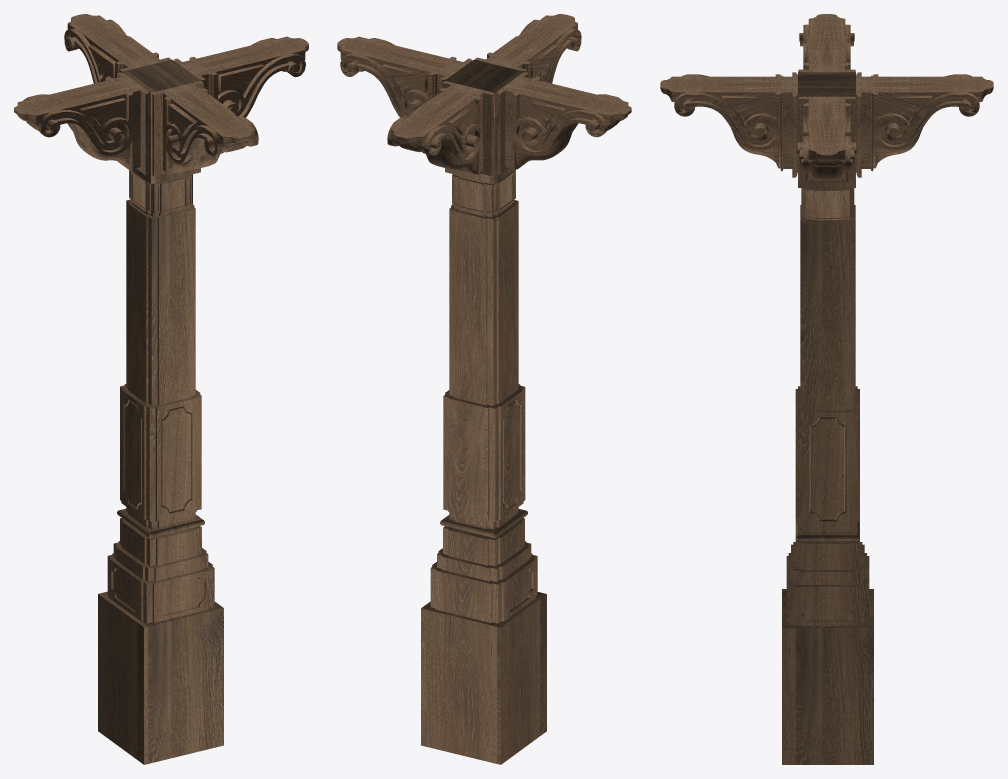
The model's file is Pillar.glb.
3 views of the same model, side by side, from view 1: azimuth 30°, elevation 25°; view 2: azimuth 150°, elevation 25°; view 3: azimuth 270°, elevation 25° (orthographic).
Parts seen in each view (by area): view 1: group_23 (×8), group_21, group_19, group_14, group_15, group_17, group_11, group_12, group_18, group_3; view 2: group_23 (×8), group_21, group_19, group_14, group_15, group_17, group_11, group_8, group_18, group_3; view 3: group_23 (×8), group_21, group_19, group_14, group_15, group_17, group_11, group_9, group_18.
Boxes of the visible parts, bbox=[...] form: group_23 (×8): bbox=[14, 14, 308, 176]; group_21: bbox=[98, 591, 223, 764]; group_19: bbox=[126, 176, 195, 529]; group_14: bbox=[120, 384, 201, 521]; group_15: bbox=[107, 553, 214, 623]; group_17: bbox=[113, 518, 208, 581]; group_11: bbox=[122, 59, 200, 184]; group_12: bbox=[160, 177, 187, 213]; group_18: bbox=[117, 508, 204, 537]; group_3: bbox=[130, 171, 147, 211]; group_23 (×8): bbox=[337, 14, 631, 176]; group_21: bbox=[421, 592, 546, 764]; group_19: bbox=[449, 174, 518, 529]; group_14: bbox=[443, 384, 525, 521]; group_15: bbox=[430, 553, 537, 623]; group_17: bbox=[437, 518, 531, 581]; group_11: bbox=[445, 59, 523, 184]; group_8: bbox=[458, 177, 484, 214]; group_18: bbox=[440, 509, 527, 538]; group_3: bbox=[497, 171, 514, 212]; group_23 (×8): bbox=[660, 14, 993, 181]; group_21: bbox=[782, 589, 873, 764]; group_19: bbox=[800, 188, 855, 534]; group_14: bbox=[795, 386, 859, 525]; group_15: bbox=[786, 553, 869, 625]; group_17: bbox=[791, 540, 864, 584]; group_11: bbox=[798, 72, 855, 187]; group_9: bbox=[813, 189, 842, 220]; group_18: bbox=[795, 521, 859, 540].
Bounding box in the file's own units: 44.19 × 96.68 × 44.19.
1 material, 1 textured.
